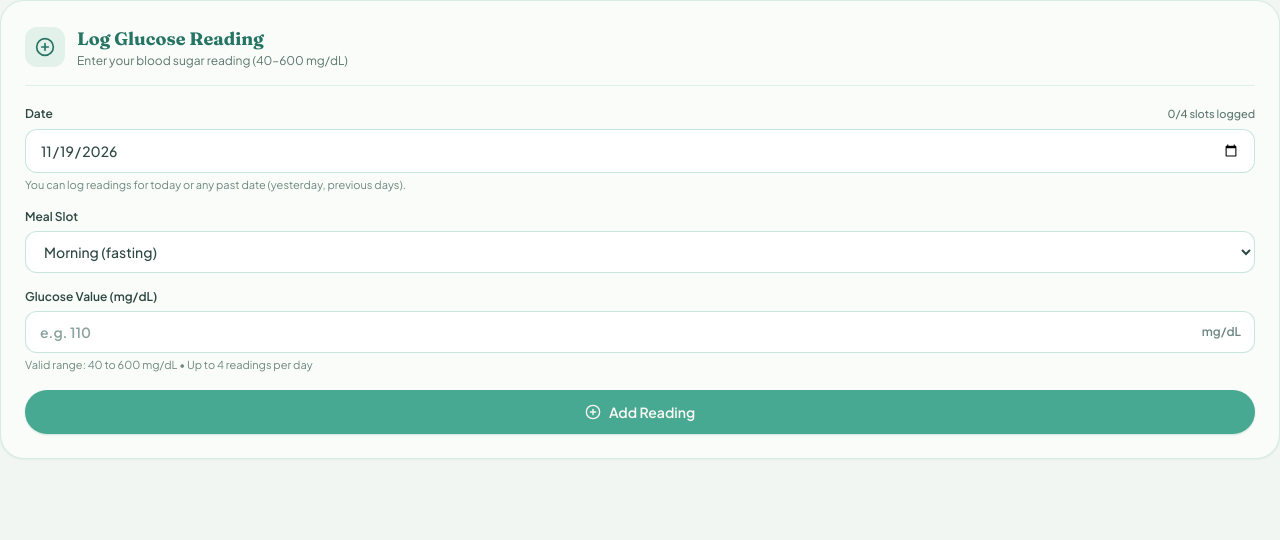
Test case: ReadingForm Component › shows validation error when glucose value is empty
The width and height of the screenshot is (1280, 540).
Click the button "Add Reading" at (640, 412), box [25,390,1255,434]
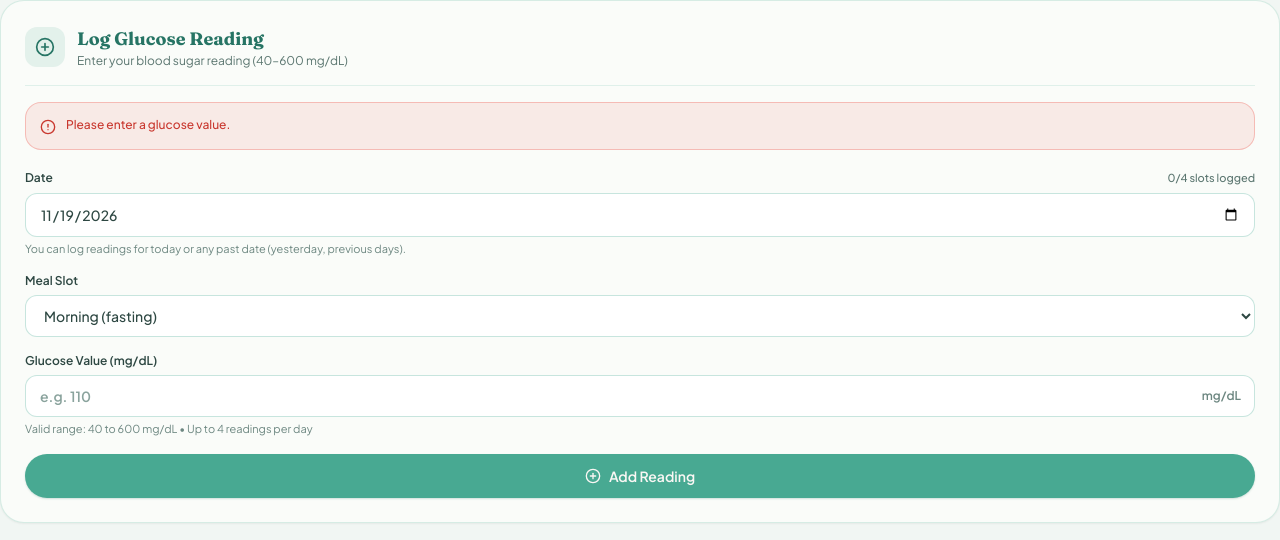
Check: the text "Please enter a glucose value." is shown, box [66,117,230,133]
